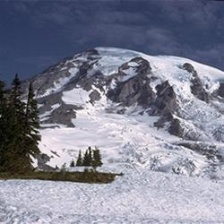neutral: (2, 76, 47, 178)
